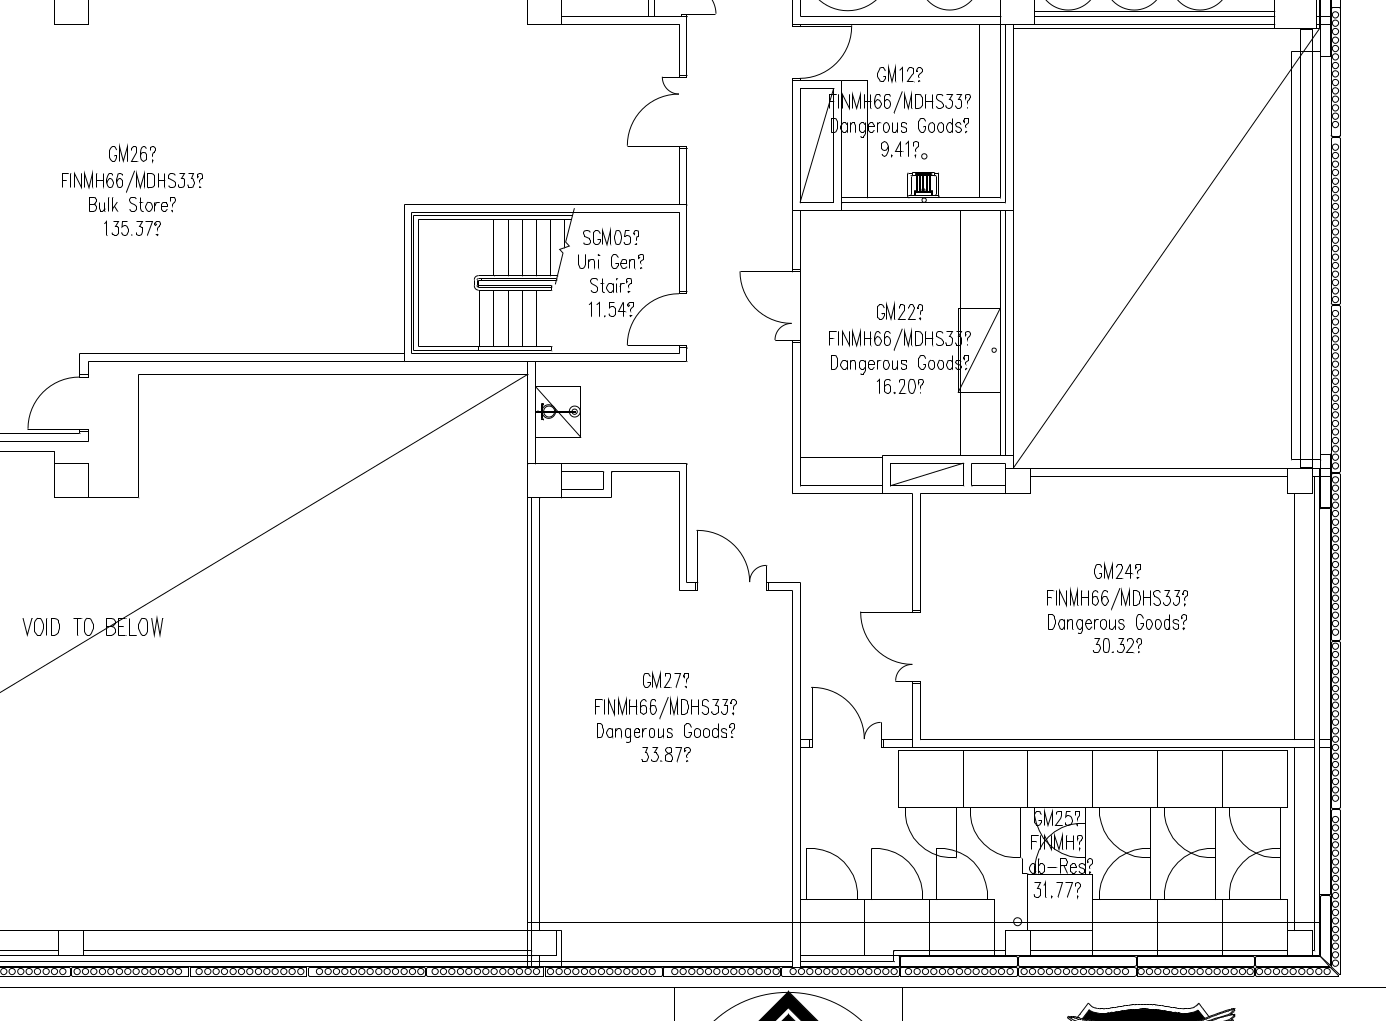door: (844, 602, 921, 665), (806, 679, 865, 752), (690, 517, 749, 590), (14, 373, 82, 431), (788, 22, 855, 79), (801, 835, 859, 901), (863, 838, 921, 904), (927, 836, 985, 902), (621, 283, 679, 349), (622, 93, 680, 158), (736, 258, 794, 324), (888, 656, 922, 687), (742, 556, 770, 594), (651, 63, 679, 100), (764, 315, 792, 351), (859, 714, 883, 747)
